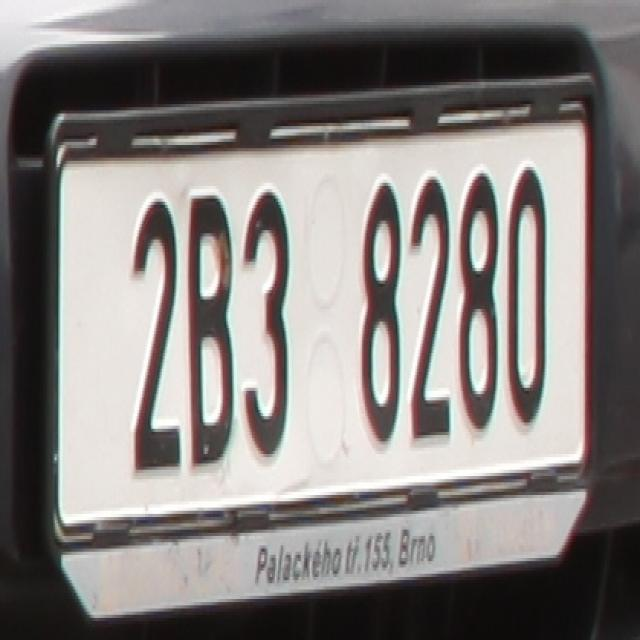0: (504, 158, 548, 422)
2: (130, 192, 182, 467), (406, 173, 449, 448)
3: (237, 186, 290, 457)
8: (359, 183, 400, 451), (458, 164, 498, 429)
B: (185, 189, 232, 460)
